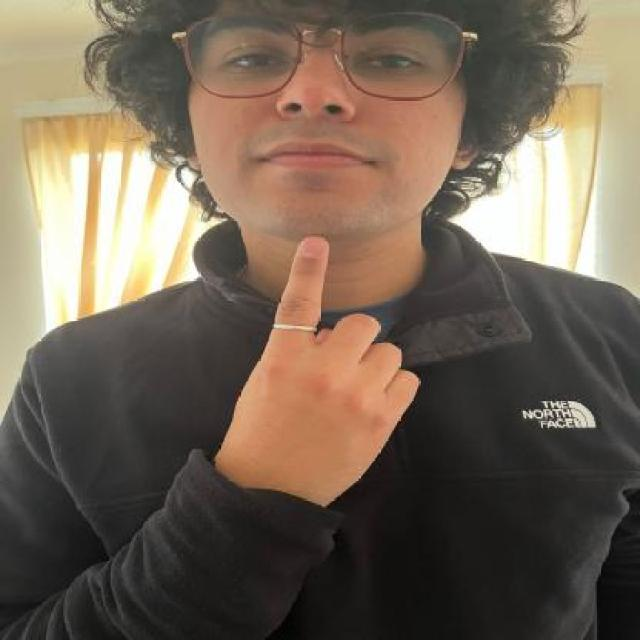T: (214, 228, 426, 506)
